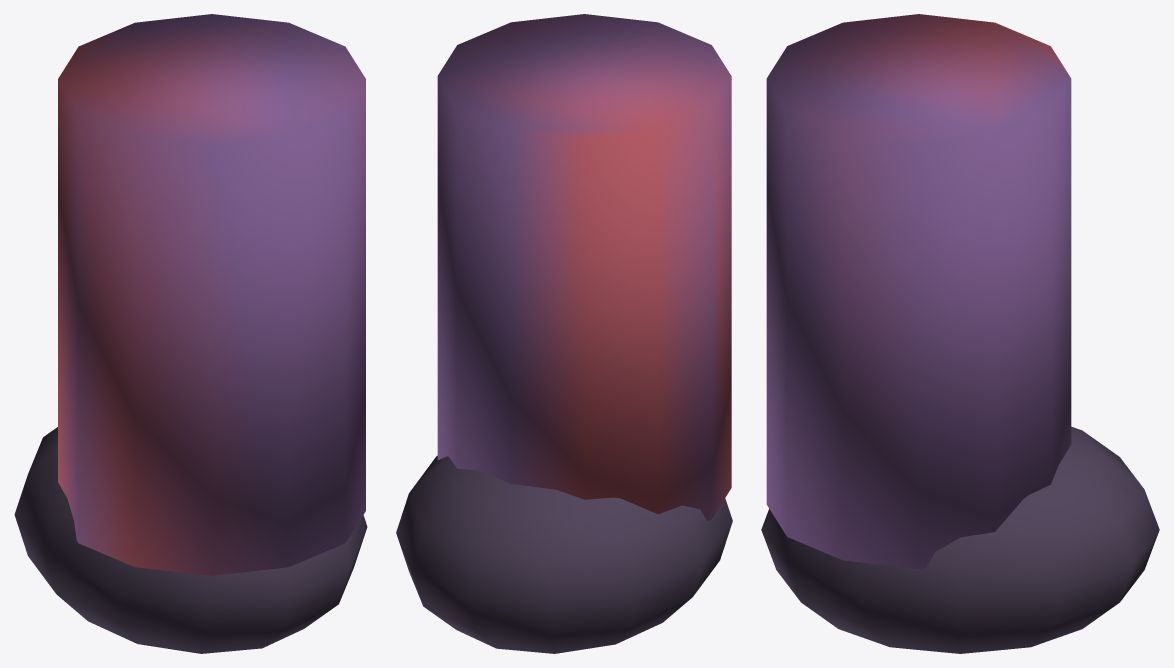
File: limbs_leg_stubby.glb
The picture shows the model from 3 angles, left to right: view 1: azimuth 30°, elevation 25°; view 2: azimuth 150°, elevation 25°; view 3: azimuth 270°, elevation 25°; orthographic projection. The views are drawn at different scales.
Visible parts, largest first — view 1: leg_stubby_L, Sphere; view 2: leg_stubby_L, Sphere; view 3: leg_stubby_L, Sphere.
Part boxes in pixels (left/top/right/bottom): leg_stubby_L: left=58, top=14, right=365, bottom=575; Sphere: left=14, top=427, right=367, bottom=653; leg_stubby_L: left=437, top=14, right=731, bottom=520; Sphere: left=396, top=455, right=732, bottom=653; leg_stubby_L: left=766, top=14, right=1071, bottom=568; Sphere: left=761, top=426, right=1159, bottom=653.
Size of the model in its own units: 0.24 by 0.444 by 0.288.
